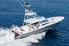fishing boat: (9, 2, 65, 40)
